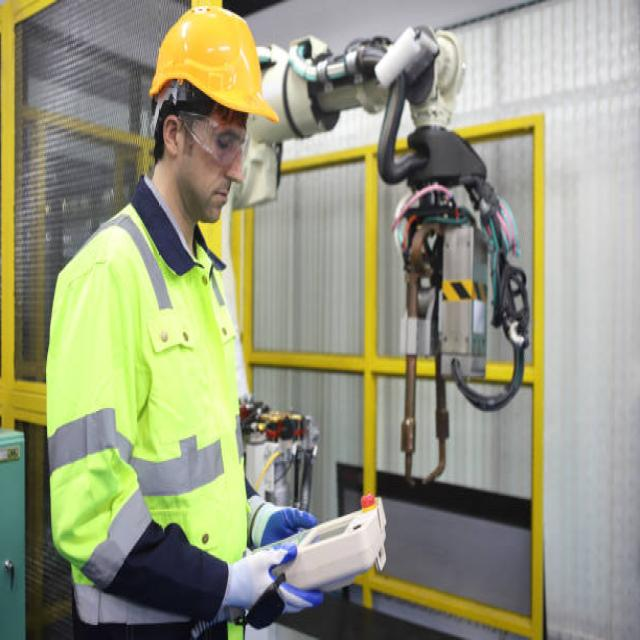Robotic-arm: (243, 19, 520, 410)
